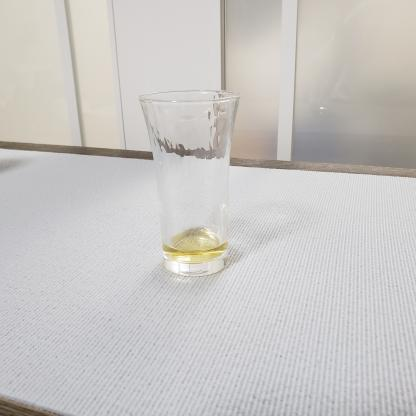glass: (131, 75, 265, 289)
